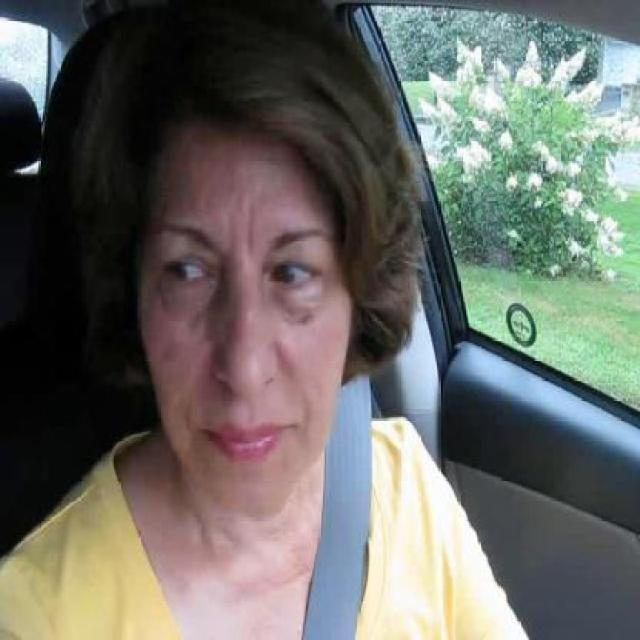awake: (268, 259, 315, 290), (165, 256, 208, 286)
